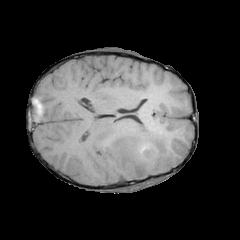glioma: (112, 123, 170, 178)
